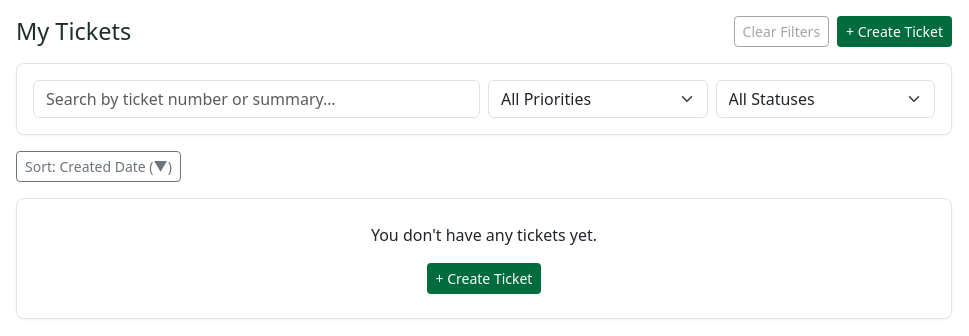
Test case: TicketsPlaceholder (My Tickets) › clicking Clear Filters resets search and re-fetches with no filters
Type "laptop" into the field named "search tickets" at {"x": 256, "y": 99}, box [33,80,480,118]
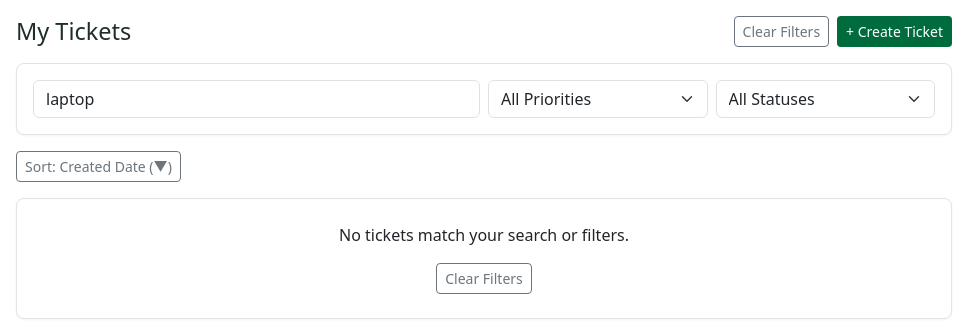
Click the button "Clear Filters" next to "+ Create Ticket" at {"x": 781, "y": 32}, box [734,16,829,47]
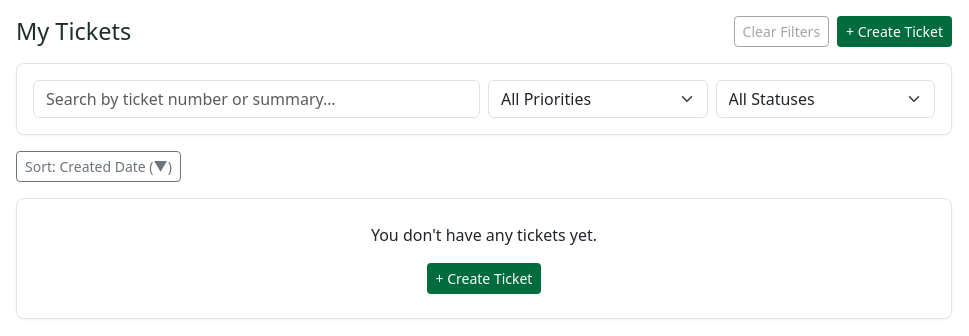
Now the field named "search tickets" is empty, box [33,80,480,118]
